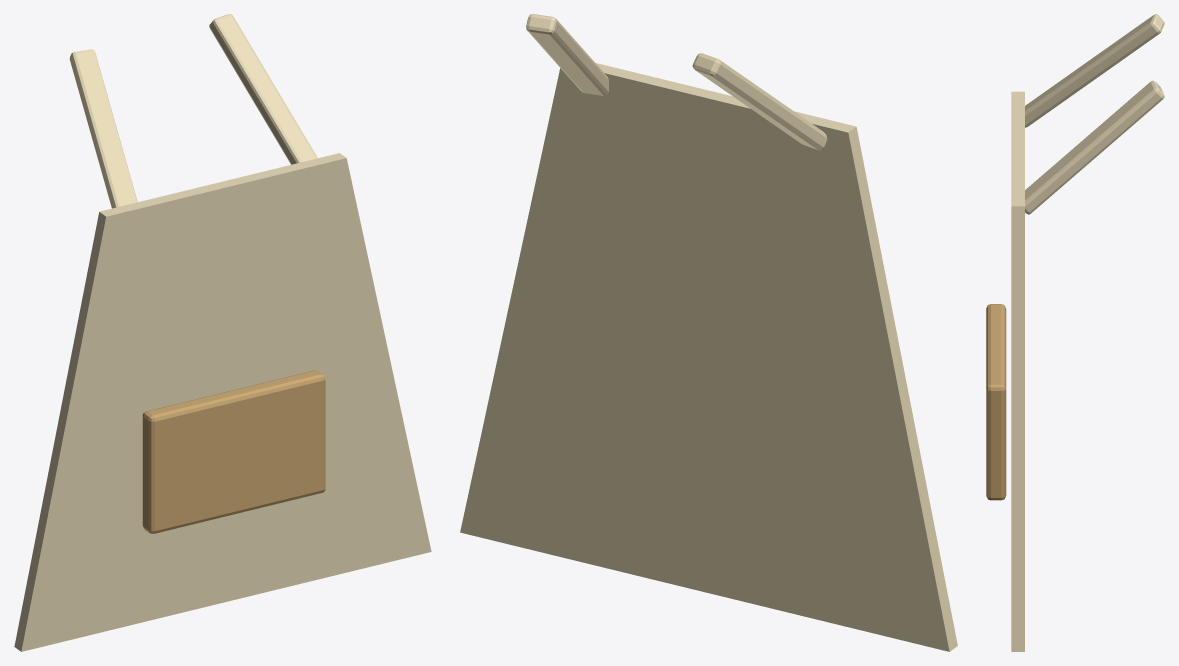
The model's file is apron_linen_short.glb.
3 renders of one model, left to right at view 1: azimuth 30°, elevation 25°; view 2: azimuth 150°, elevation 25°; view 3: azimuth 270°, elevation 25°, orthographic. The views are drawn at different scales.
Parts seen in each view (by area): view 1: apron_linen_short; view 2: apron_linen_short; view 3: apron_linen_short.
Boxes of the visible parts, x1,y1,x2,y2 form: apron_linen_short: (14,14,431,651); apron_linen_short: (460,14,957,651); apron_linen_short: (986,14,1164,651).
Size of the model in its own units: 0.58 by 0.6953 by 0.2237.
